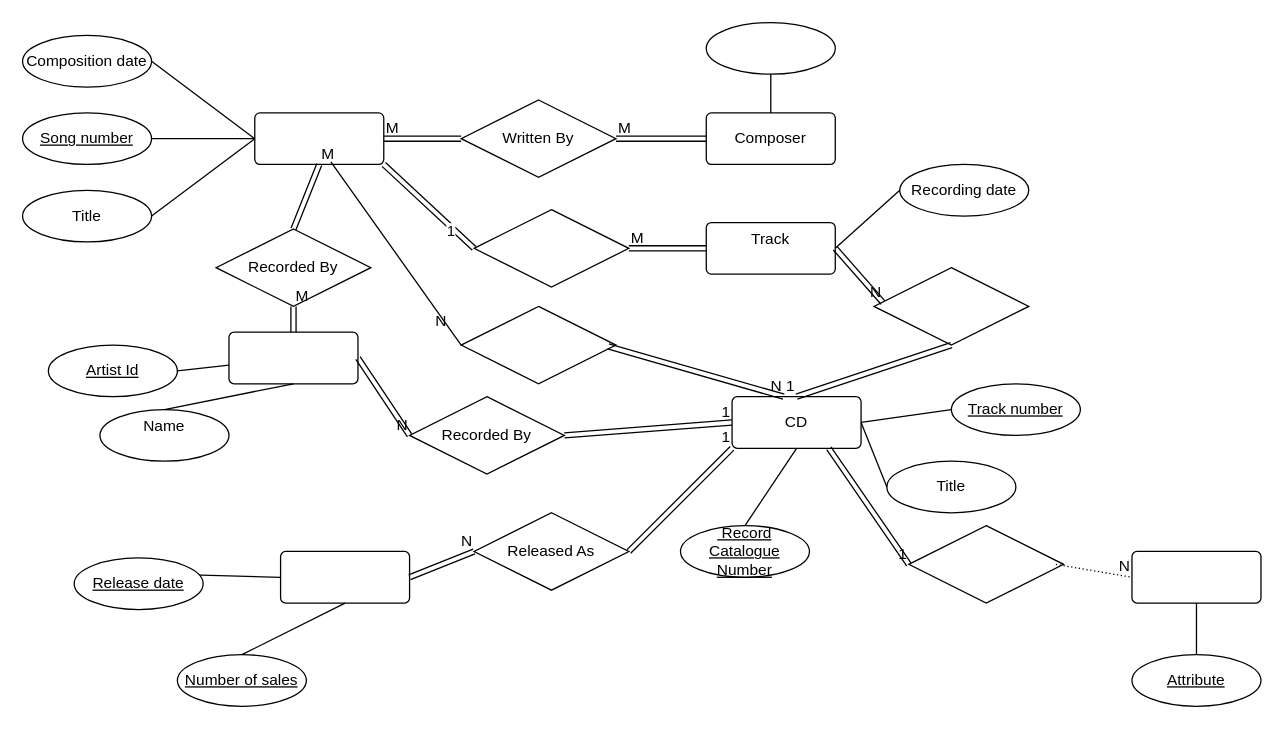
The diagram is 1284 pixels wide and 729 high, and some of its shapes have lost their labels. Here are the shapes that lost their labels. From the top down, the box of each, then its label:
(705, 21, 835, 74): Full name
(253, 112, 384, 164): Song
(473, 208, 629, 287): Recorded as
(873, 266, 1029, 345): contains
(228, 331, 358, 384): Recording Artist
(460, 305, 616, 384): Appear on
(279, 550, 410, 603): Release
(908, 524, 1064, 603): Produce
(1131, 550, 1261, 603): Producer
